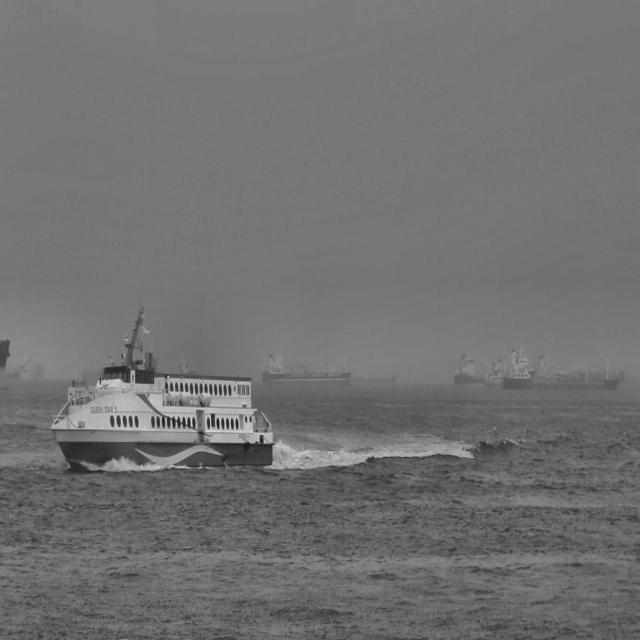ship: (50, 297, 276, 472), (500, 344, 620, 394), (260, 350, 352, 383), (452, 352, 485, 387), (8, 352, 44, 383), (483, 355, 506, 389), (1, 338, 12, 392)
